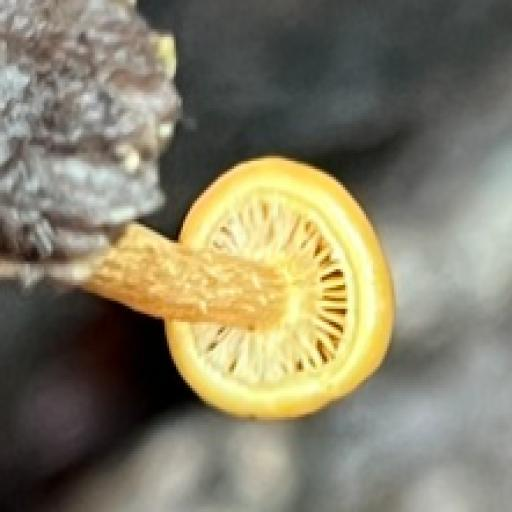mushroom: (55, 152, 400, 422)
